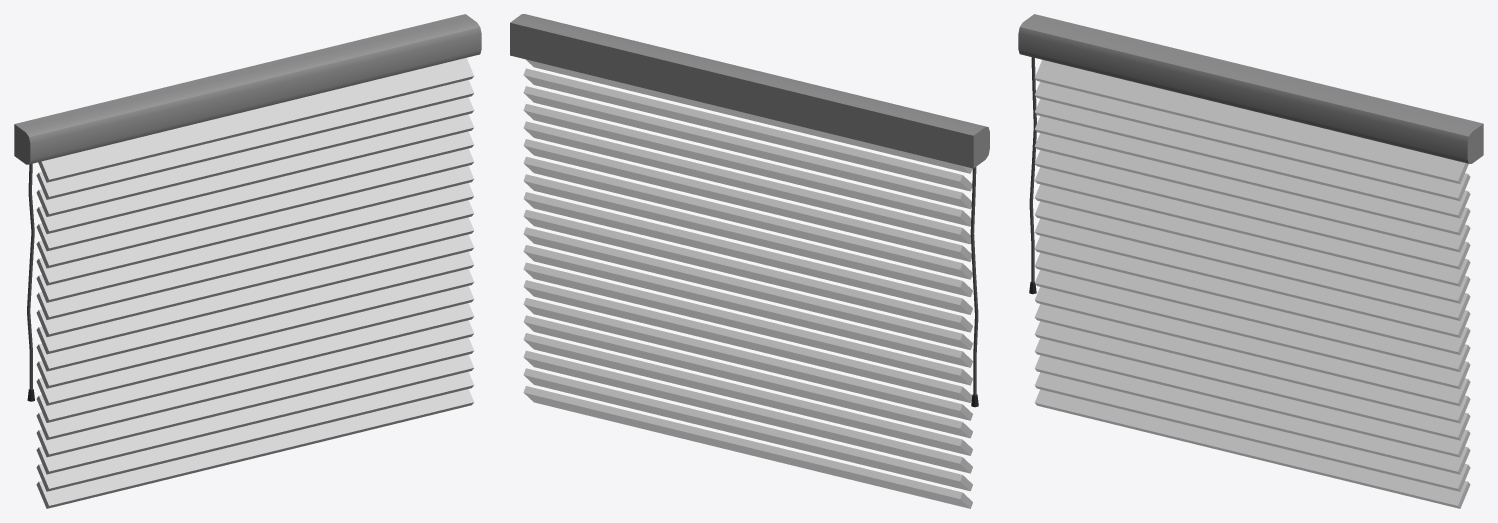
The model's file is window.glb.
3 renders of one model, left to right at view 1: azimuth 30°, elevation 25°; view 2: azimuth 150°, elevation 25°; view 3: azimuth 330°, elevation 25°, orthographic. The views are drawn at different scales.
Visible parts, largest first — view 1: pCube233; view 2: pCube233; view 3: pCube233.
Part boxes in pixels (x1,y1,x2,y2): pCube233: (14, 14, 481, 508); pCube233: (510, 14, 989, 508); pCube233: (1018, 14, 1483, 508).
Size of the model in its own units: 2.04 by 1.64 by 0.1348.
Materials: 1 (1 with a texture image).
